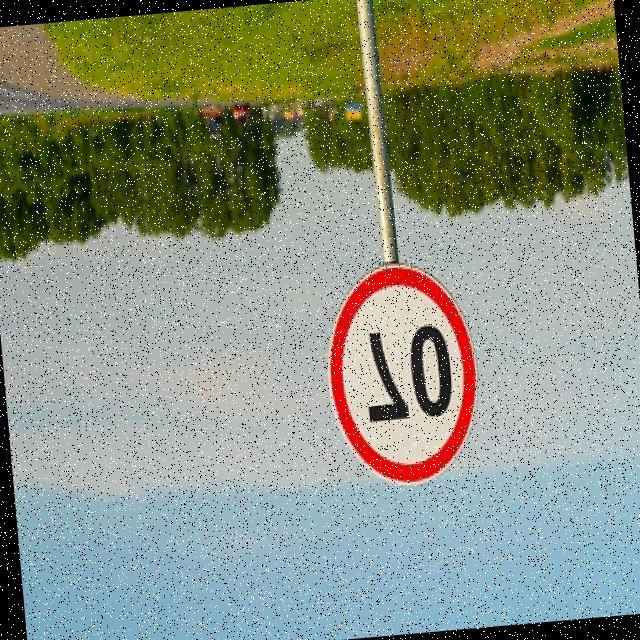speed_limit_70: (317, 254, 489, 496)
